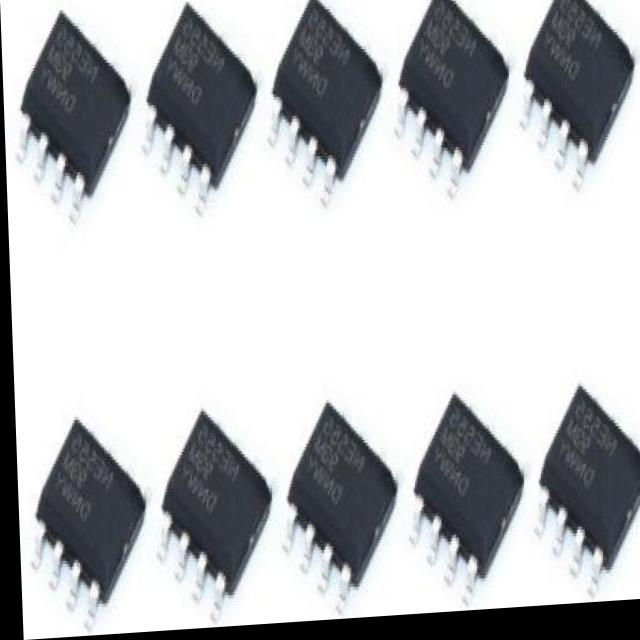IC chip: (410, 401, 520, 609), (17, 14, 129, 208), (282, 409, 394, 595), (157, 414, 268, 601), (29, 424, 141, 609), (146, 6, 256, 191), (398, 0, 508, 180), (272, 2, 380, 183), (536, 394, 640, 580), (524, 0, 634, 171)
